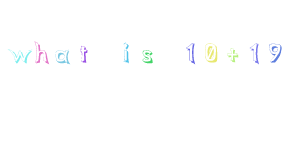+: (226, 48, 238, 62)
0: (204, 42, 218, 63)
1: (248, 42, 261, 64), (185, 42, 196, 64)
9: (268, 42, 282, 64)
a: (54, 49, 70, 64)
h: (34, 40, 49, 64)
i: (121, 40, 131, 63)
s: (141, 48, 153, 63)
t: (78, 45, 88, 63)
w: (9, 48, 32, 63)
